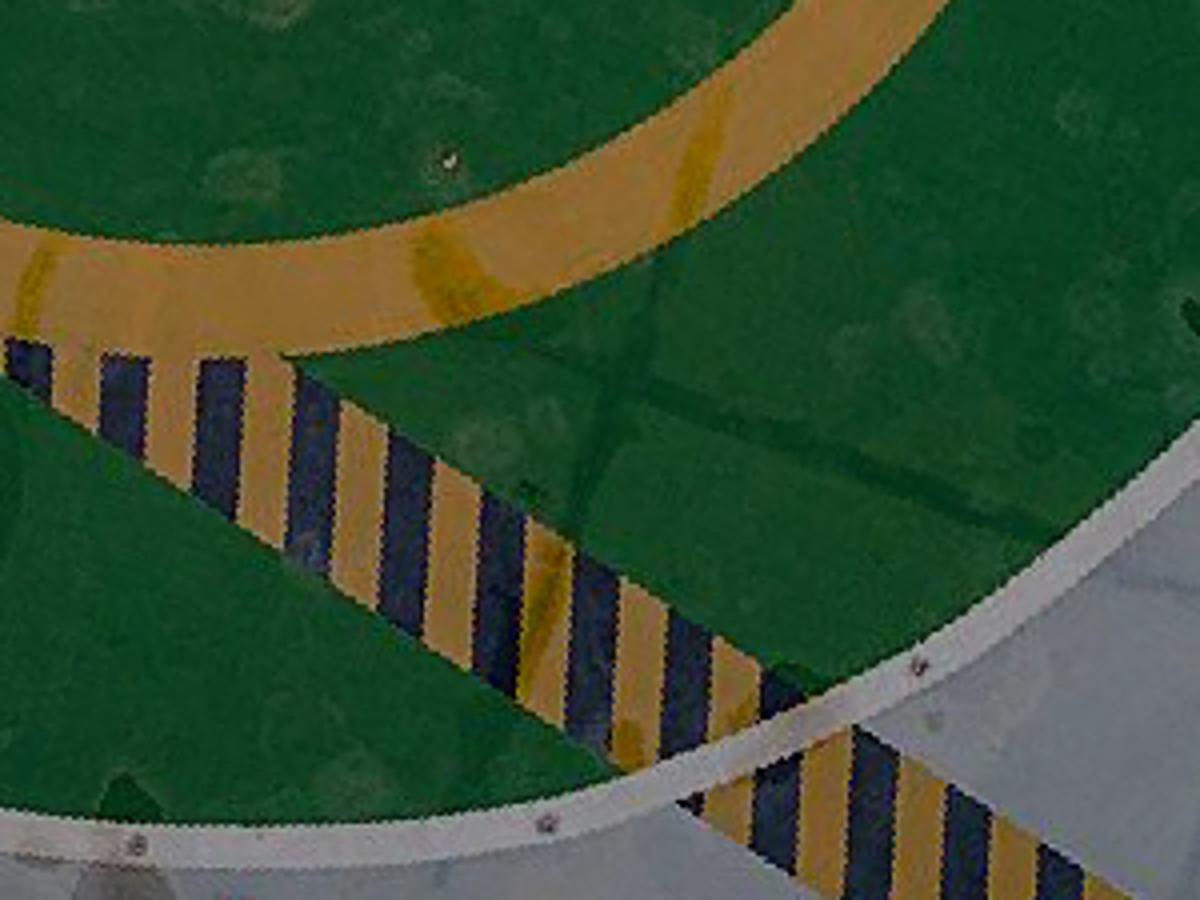Apron: (1, 1, 966, 426)
